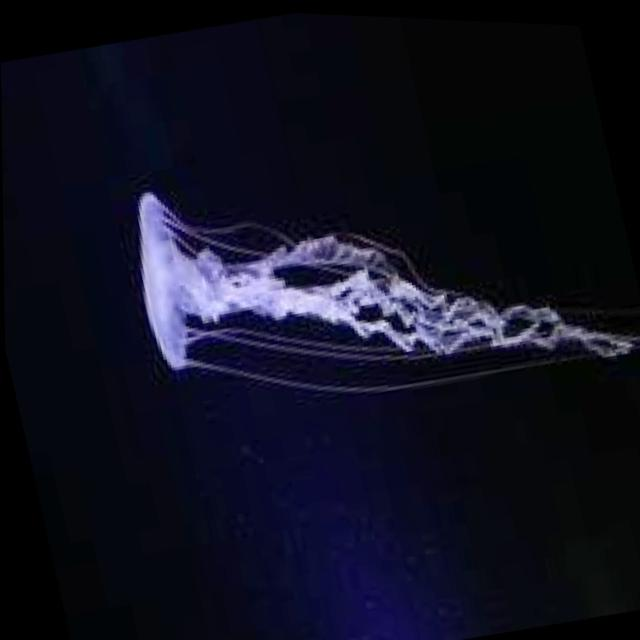Jellyfish: (115, 92, 640, 449)
